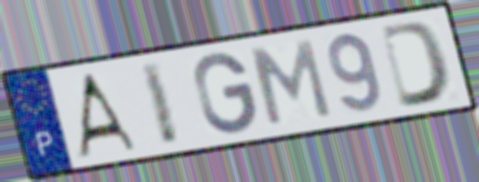9: (324, 29, 386, 116)
A: (73, 70, 140, 160)
D: (376, 18, 453, 111)
G: (191, 50, 260, 137)
I: (136, 57, 183, 149)
M: (247, 37, 335, 128)
